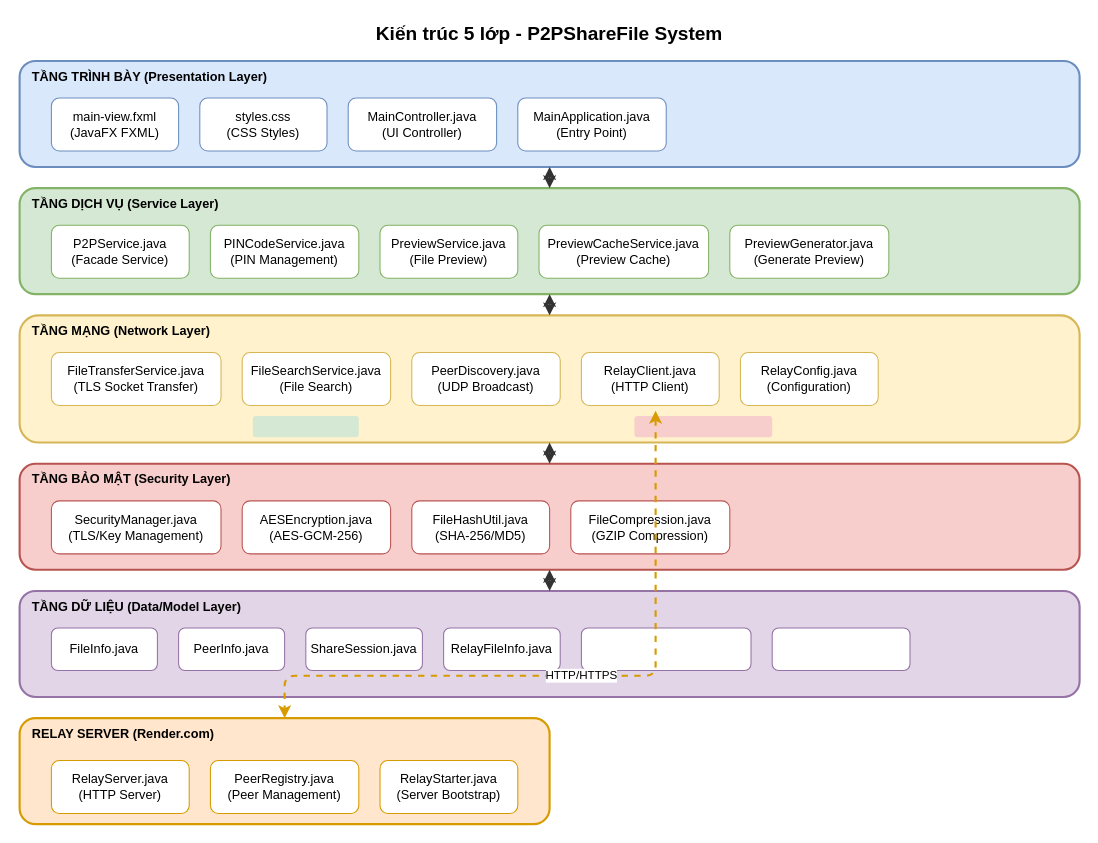
Image size: 1098x843. Some labels were removed from this diagram. Each missing label, with the centre of its shape:
P2P Mode (LAN): the point at 305,426
PreviewManifest.java: the point at 840,648
Relay Mode (Internet): the point at 703,426
RelayTransferProgress.java: the point at 665,648
